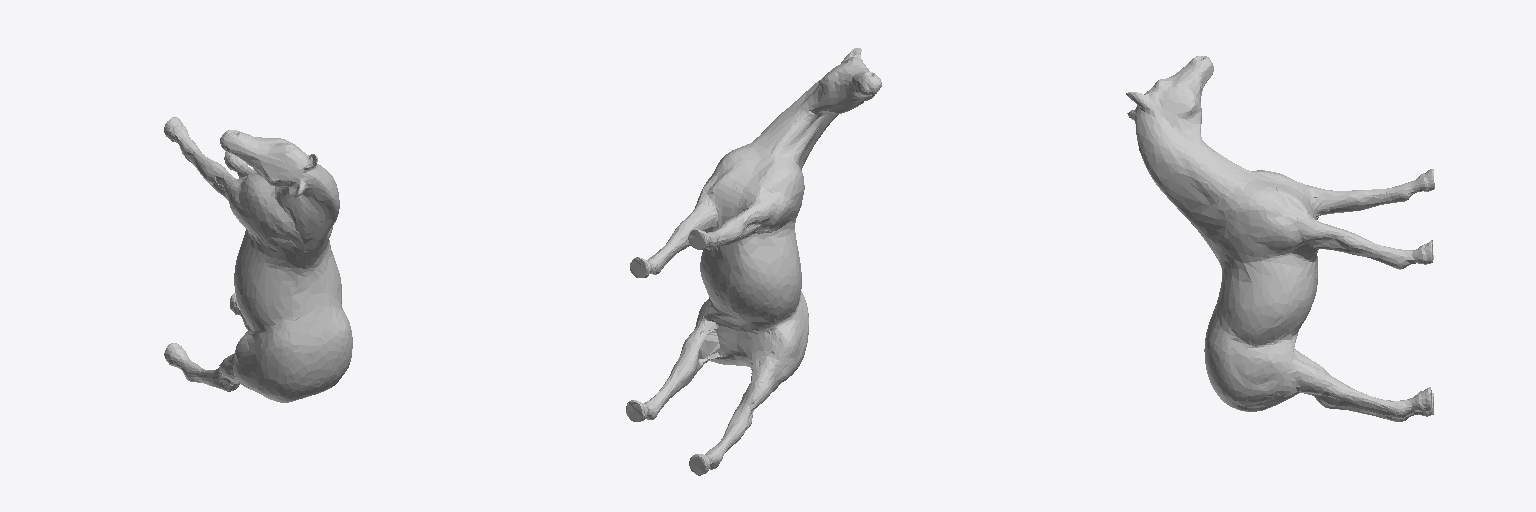
The model's file is horse_simplified_40000_simplified_4000.obj.
3 renders of one model, left to right at view 1: azimuth 30°, elevation 25°; view 2: azimuth 150°, elevation 25°; view 3: azimuth 270°, elevation 25°, orthographic.
Bounding box in the file's own units: 0.9147 × 2 × 1.67.